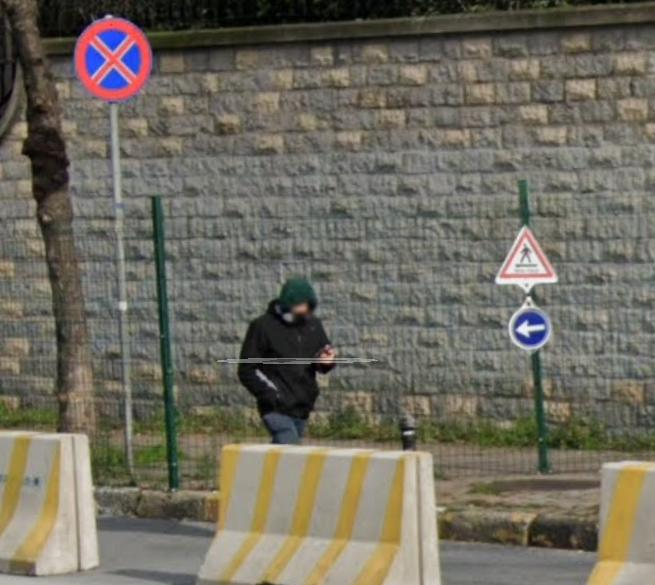turnleft: (505, 304, 552, 352)
